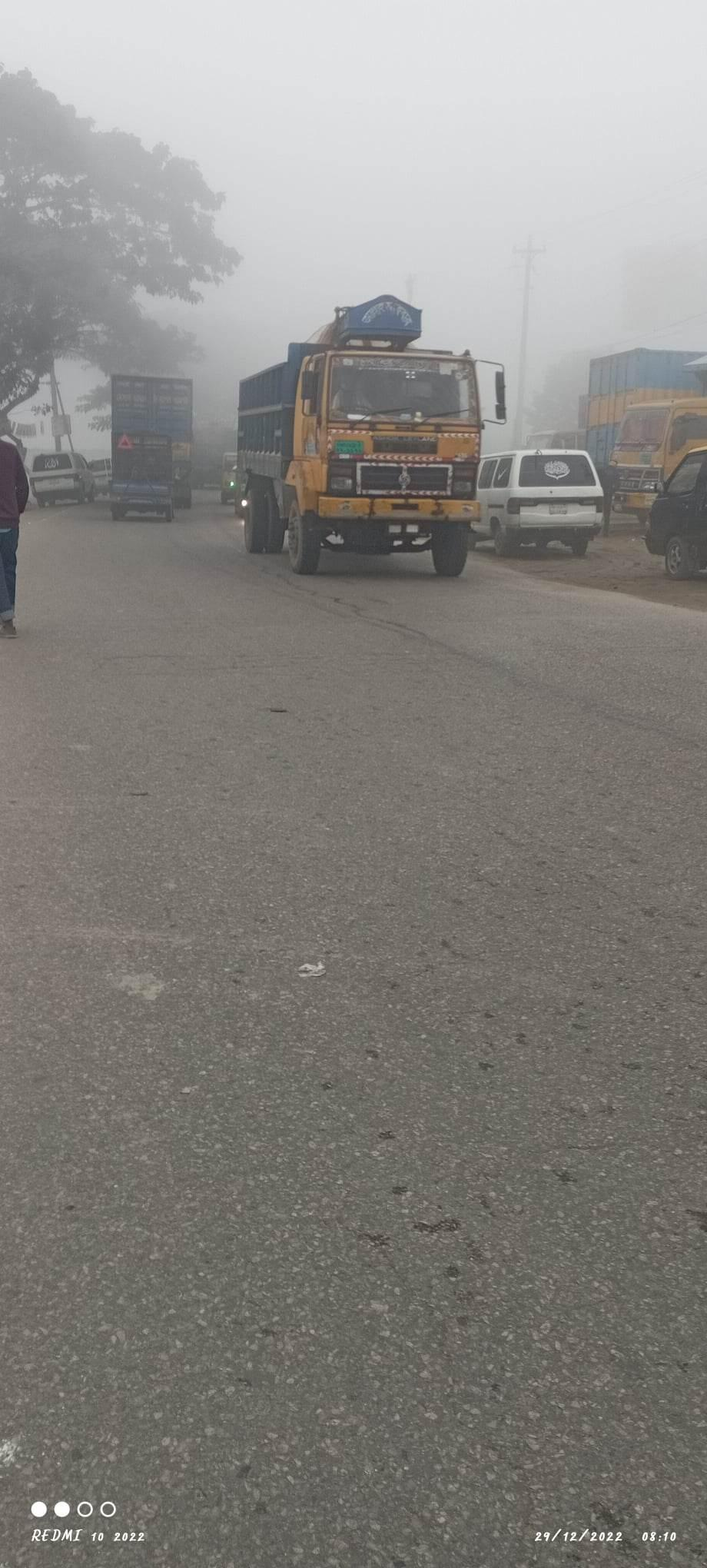Car: (479, 411, 619, 583), (28, 434, 91, 514)
Truck: (214, 288, 521, 635), (95, 339, 212, 535), (101, 404, 197, 539)
